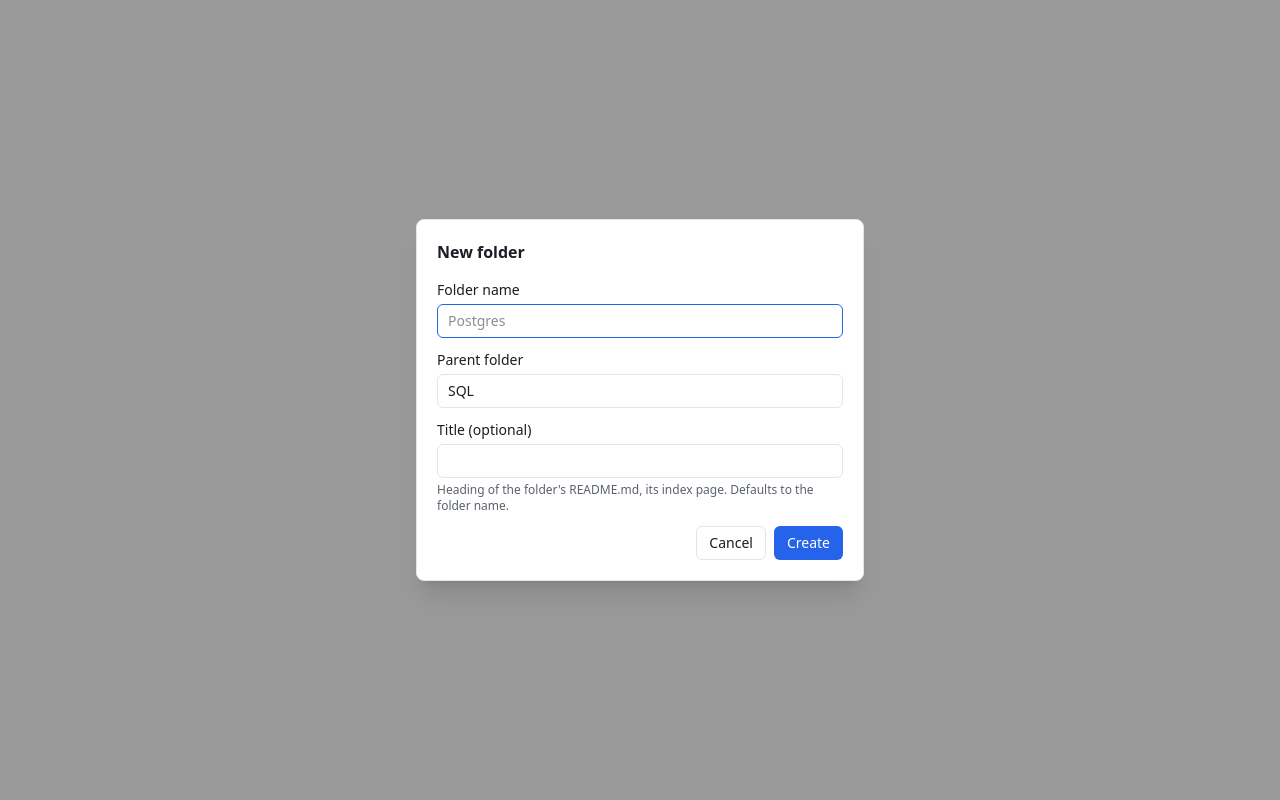
Test: NewFolderDialog › validates .hidden
Type ".hidden" into the field labelled "Folder name" at (640, 321), box [437, 304, 843, 338]
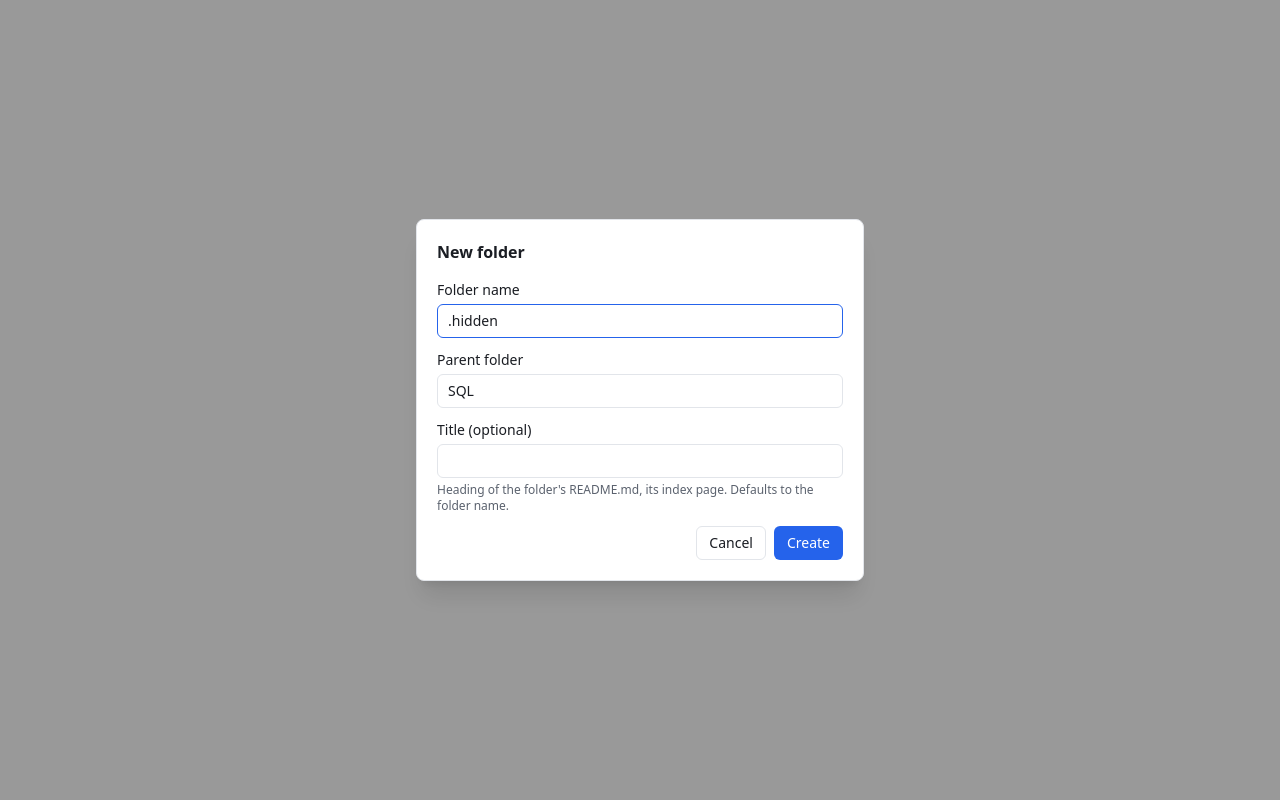
Click the button "Create" at (808, 543), box [774, 526, 843, 560]
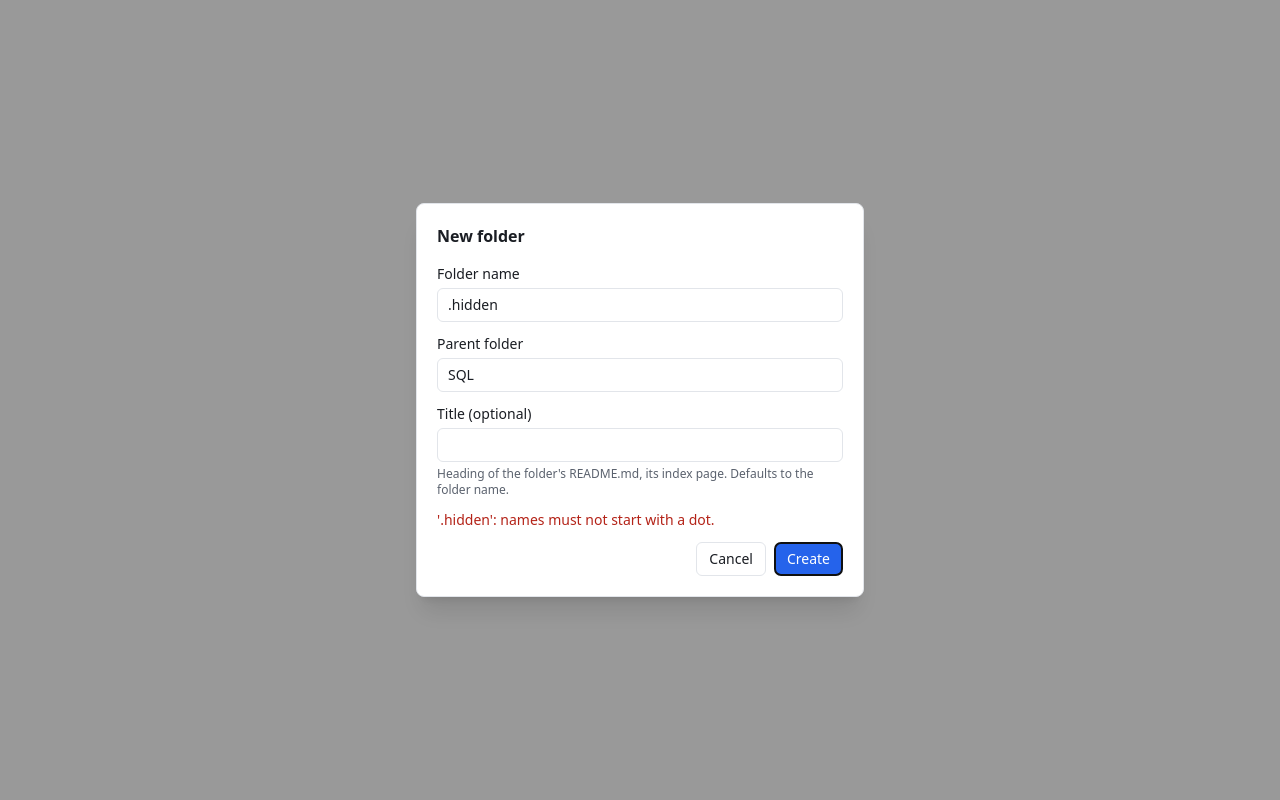
Result: the message shows "must not start with a dot" at [437, 510, 715, 529]
